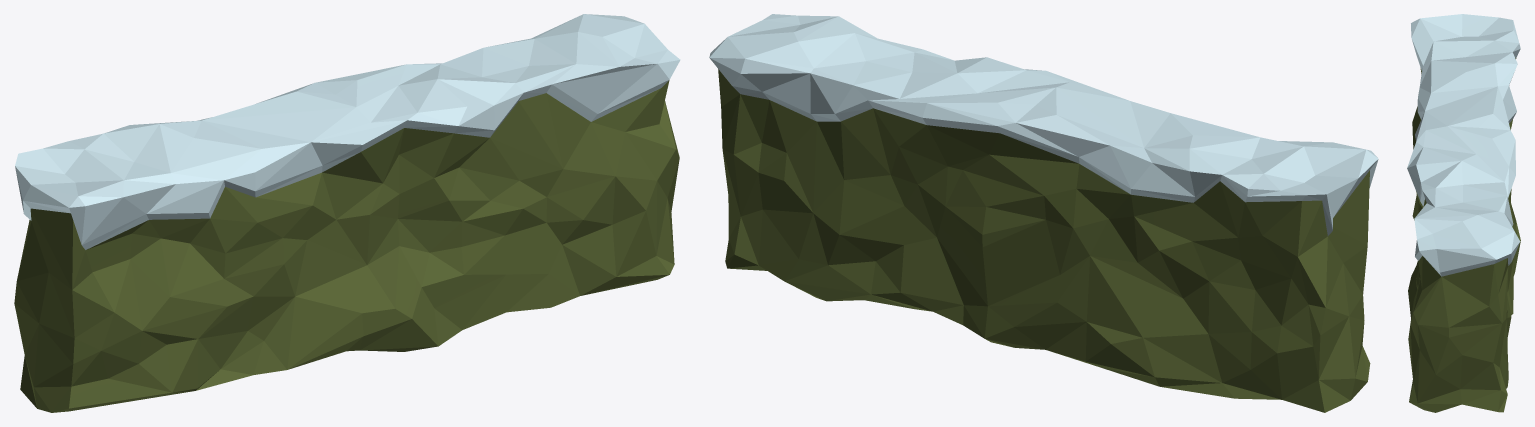
File: SM_Env_Hedge_01_Snow.gltf
3 views of the same model, side by side, from view 1: azimuth 30°, elevation 25°; view 2: azimuth 150°, elevation 25°; view 3: azimuth 270°, elevation 25° (orthographic). The views are drawn at different scales.
Parts seen in each view (by area): view 1: SM_Env_Hedge_01_Snow; view 2: SM_Env_Hedge_01_Snow; view 3: SM_Env_Hedge_01_Snow.
Part boxes in pixels (box(x1,y1,x2,y2)): SM_Env_Hedge_01_Snow: box(14, 14, 680, 412); SM_Env_Hedge_01_Snow: box(709, 14, 1378, 412); SM_Env_Hedge_01_Snow: box(1407, 14, 1520, 412).
Bounding box in the file's own units: 5.46 × 2 × 1.11.
1 material, 1 textured.
